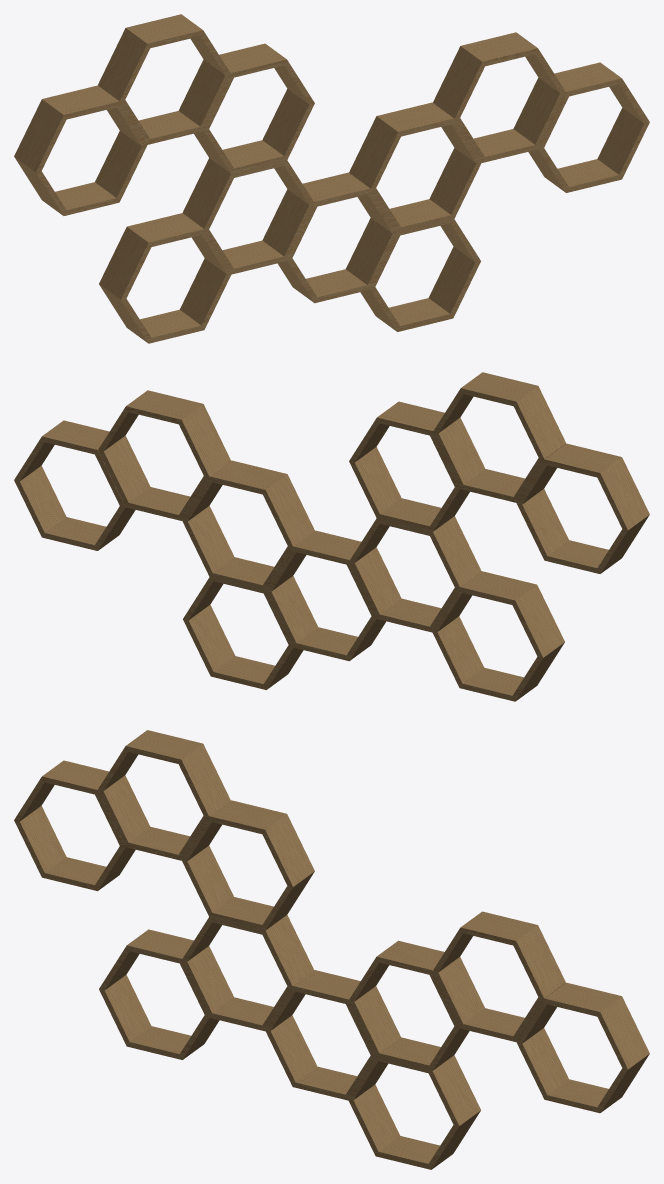
Rendered from Shelf3.glb.
3 views of the same model, one above another, from view 1: azimuth 30°, elevation 25°; view 2: azimuth 150°, elevation 25°; view 3: azimuth 330°, elevation 25° (orthographic).
Parts seen in each view (by area): view 1: SM_MERGED_StaticMeshActor_85; view 2: SM_MERGED_StaticMeshActor_85; view 3: SM_MERGED_StaticMeshActor_85.
Part boxes in pixels (left/top/right/bottom): SM_MERGED_StaticMeshActor_85: left=14, top=14, right=649, bottom=343; SM_MERGED_StaticMeshActor_85: left=14, top=372, right=649, bottom=701; SM_MERGED_StaticMeshActor_85: left=14, top=730, right=649, bottom=1169.
Size of the model in its own units: 2.67 by 1.45 by 0.1647.
Materials: 1 (1 with a texture image).
